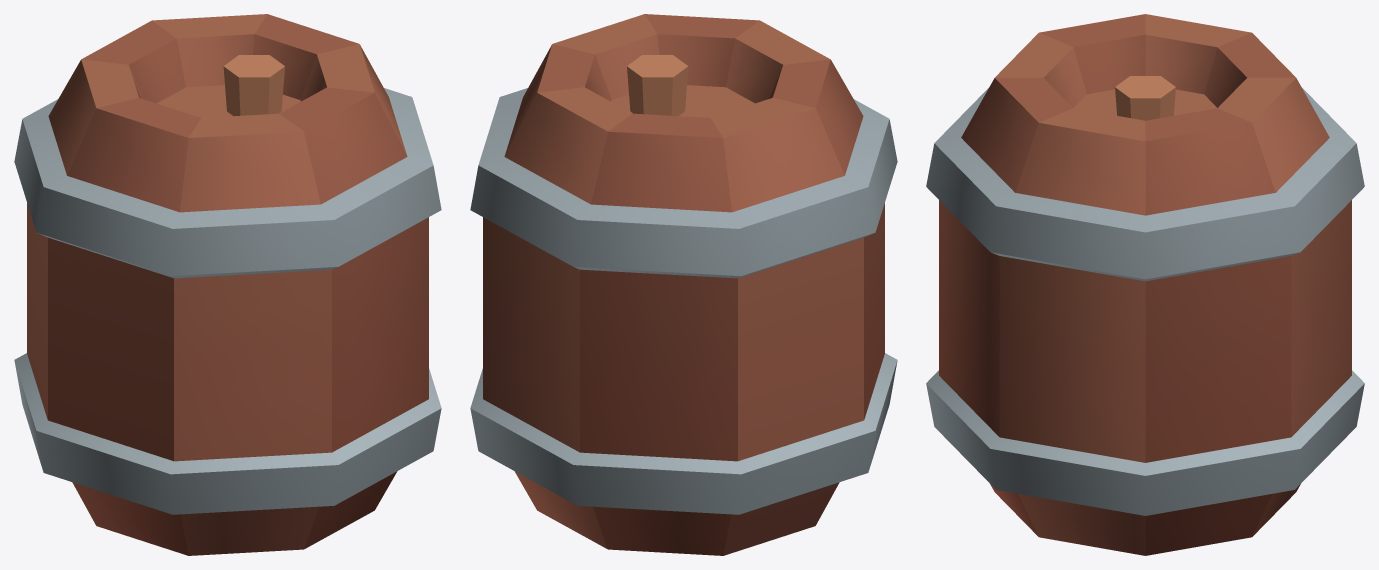
The model's file is kk_barrel.glb.
The picture shows the model from 3 angles, left to right: view 1: azimuth 30°, elevation 25°; view 2: azimuth 150°, elevation 25°; view 3: azimuth 270°, elevation 25°; orthographic projection.
Visible parts, largest first — view 1: barrel; view 2: barrel; view 3: barrel.
Part boxes in pixels (x1=…): barrel: x1=14, y1=14, x2=441, y2=555; barrel: x1=470, y1=14, x2=897, y2=555; barrel: x1=926, y1=14, x2=1364, y2=555.
Bounding box in the file's own units: 0.2015 × 0.2117 × 0.2015.
Materials: 1 (1 with a texture image).
